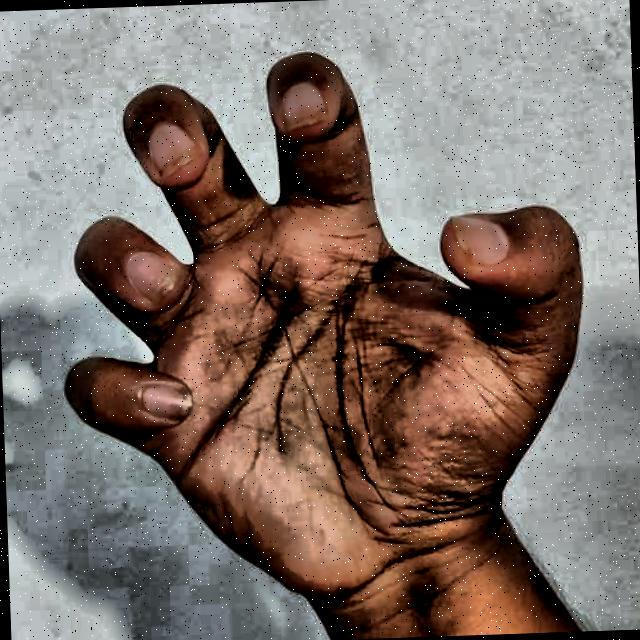Ja: (37, 23, 608, 634)
